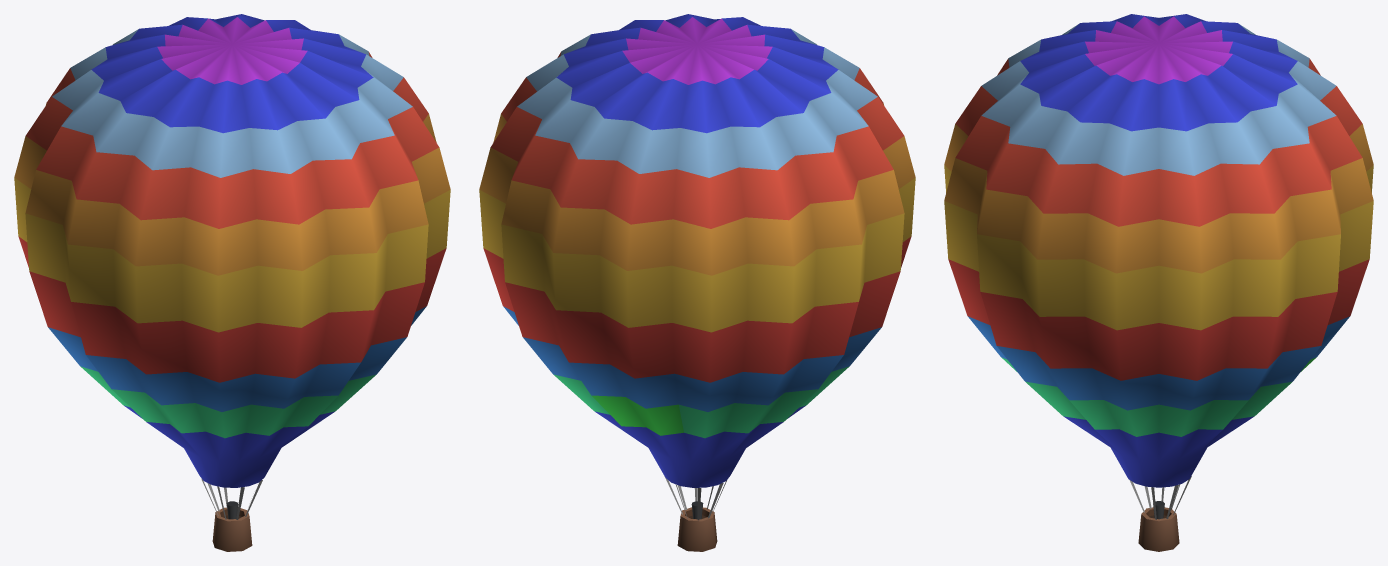
3 renders of one model, left to right at view 1: azimuth 30°, elevation 25°; view 2: azimuth 150°, elevation 25°; view 3: azimuth 270°, elevation 25°, orthographic.
Visible parts, largest first — view 1: color6; view 2: color6; view 3: color6.
Part boxes in pixels (box(x1,y1,x2,y2)): color6: box(14, 14, 450, 551); color6: box(479, 14, 915, 551); color6: box(944, 14, 1373, 551).
Size of the model in its own units: 0.385 by 0.5 by 0.385.
